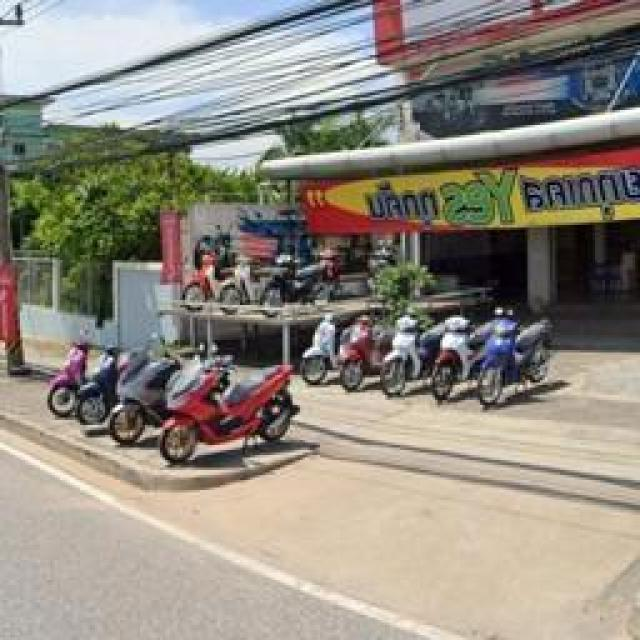motorcycle: (156, 360, 303, 460), (108, 362, 196, 448), (478, 312, 556, 407), (48, 332, 122, 416), (378, 319, 457, 397), (432, 314, 498, 402), (82, 344, 148, 430), (343, 321, 408, 388), (295, 319, 358, 386), (180, 250, 240, 314), (262, 262, 331, 317), (224, 254, 285, 310)
